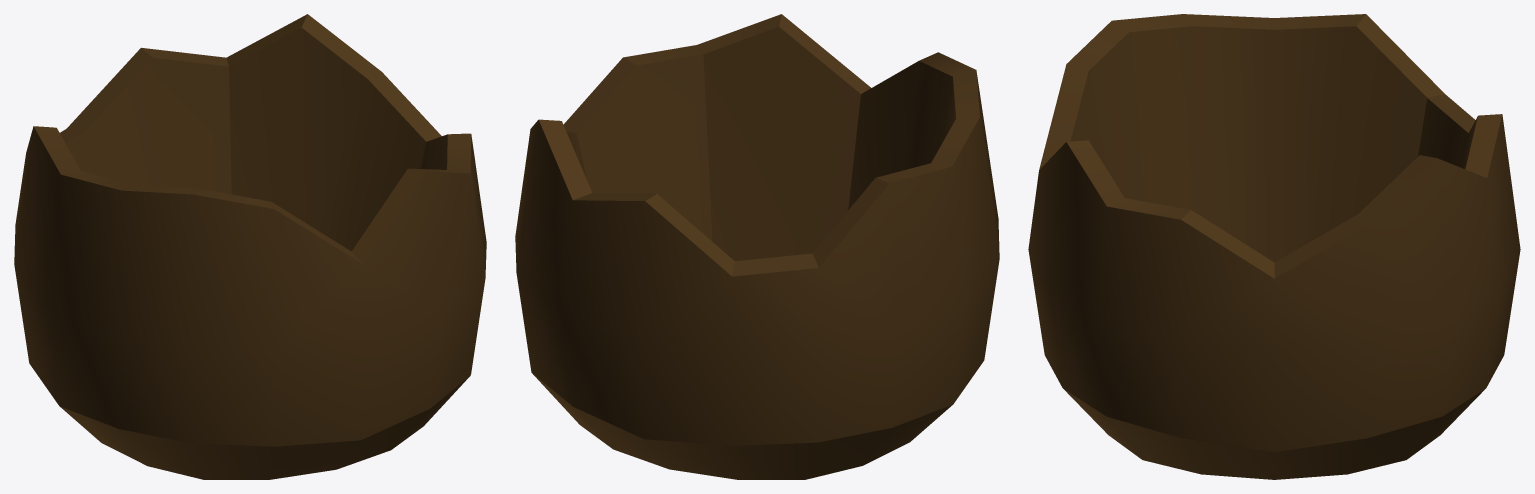
File: Pot3_Broken.obj
3 renders of one model, left to right at view 1: azimuth 30°, elevation 25°; view 2: azimuth 150°, elevation 25°; view 3: azimuth 270°, elevation 25°, orthographic. The views are drawn at different scales.
Parts seen in each view (by area): view 1: Pot3_Broken_Cube.001; view 2: Pot3_Broken_Cube.001; view 3: Pot3_Broken_Cube.001.
Boxes of the visible parts, x1,y1,x2,y2 form: Pot3_Broken_Cube.001: (14, 14, 486, 479); Pot3_Broken_Cube.001: (515, 14, 999, 479); Pot3_Broken_Cube.001: (1028, 14, 1520, 479).
Size of the model in its own units: 0.4633 by 0.3271 by 0.4633.
